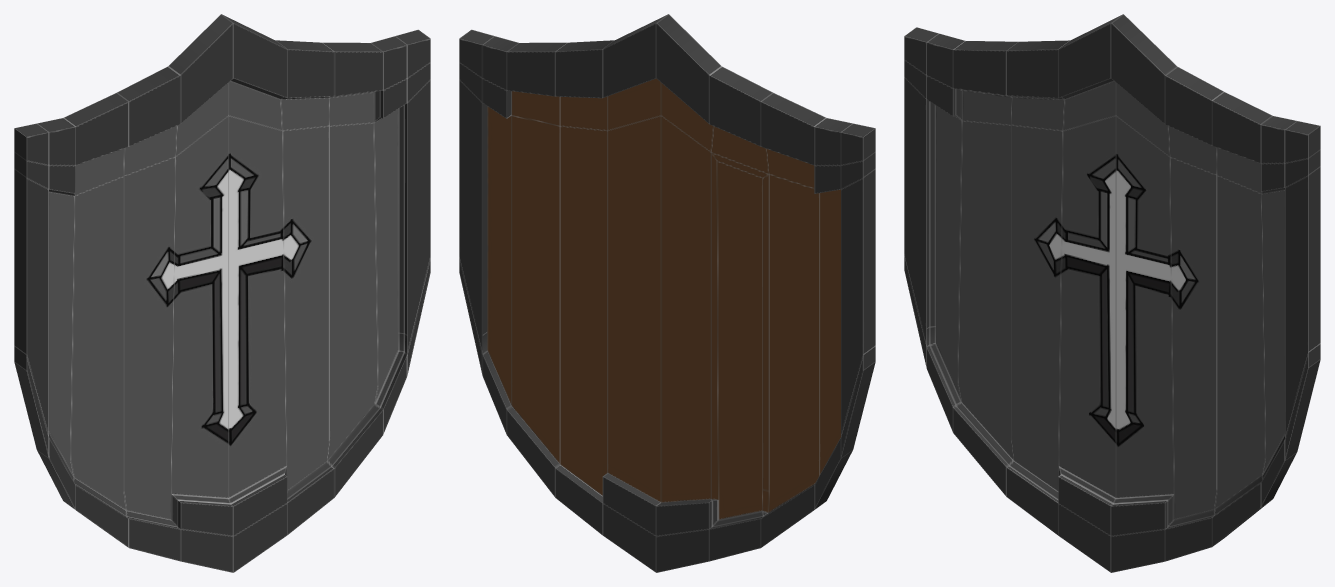
File: ShieldFA.fbx
3 renders of one model, left to right at view 1: azimuth 30°, elevation 25°; view 2: azimuth 150°, elevation 25°; view 3: azimuth 330°, elevation 25°, orthographic.
Parts seen in each view (by area): view 1: Shield1; view 2: Shield1; view 3: Shield1.
Boxes of the visible parts, <box> form: Shield1: <box>14,14,430,572</box>; Shield1: <box>459,14,875,572</box>; Shield1: <box>904,14,1320,572</box>.
Size of the model in its own units: 1 by 1.3 by 0.053.
